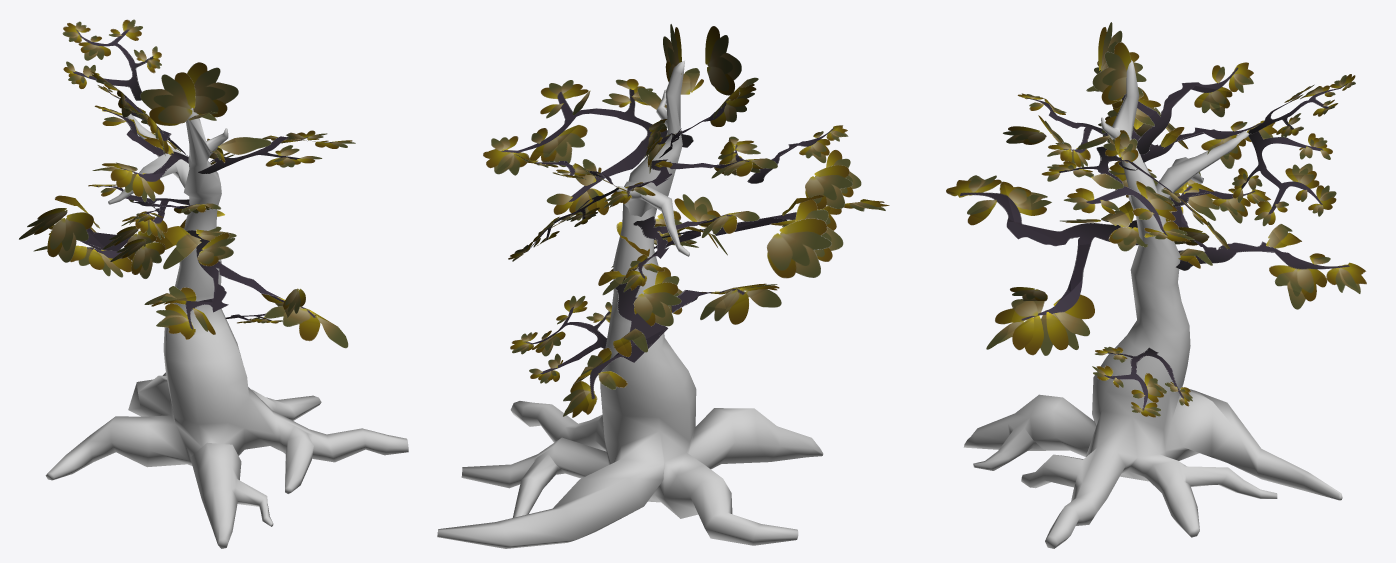
Rendered from Tree_Swamp_04.fbx.
The picture shows the model from 3 angles, left to right: view 1: azimuth 30°, elevation 25°; view 2: azimuth 150°, elevation 25°; view 3: azimuth 270°, elevation 25°; orthographic projection. The views are drawn at different scales.
Parts seen in each view (by area): view 1: Tree_04_Swamp; view 2: Tree_04_Swamp; view 3: Tree_04_Swamp.
Boxes of the visible parts, <box> form: Tree_04_Swamp: <box>19,19,408,548</box>; Tree_04_Swamp: <box>437,24,889,548</box>; Tree_04_Swamp: <box>946,22,1366,548</box>.
Size of the model in its own units: 6.77 by 8.16 by 7.54.
